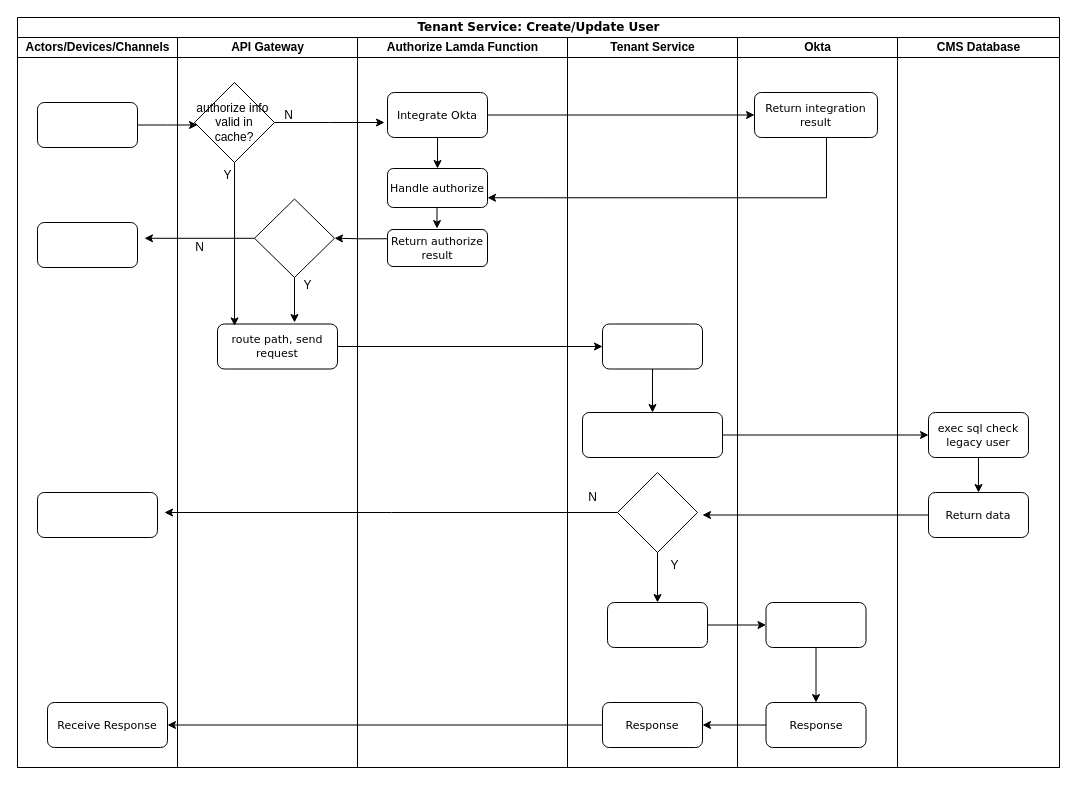
The diagram is 1077 pixels wide and 785 high, and some of its shapes have lost their labels. The centre of each missing label's shape, as x and y in pixels:
"Call Okta API Update/Create User" goes at pixel 657 625.
"Handle input request" goes at pixel 652 346.
"invalid info user error" goes at pixel 97 515.
"is Authorize?" goes at pixel 294 238.
"isLegacy UserValid?" goes at pixel 657 512.
"Receive authorize error" goes at pixel 87 245.
"Send request" goes at pixel 87 125.
"Update/Create User" goes at pixel 815 625.
"validateLegacyUserId" goes at pixel 652 435.
